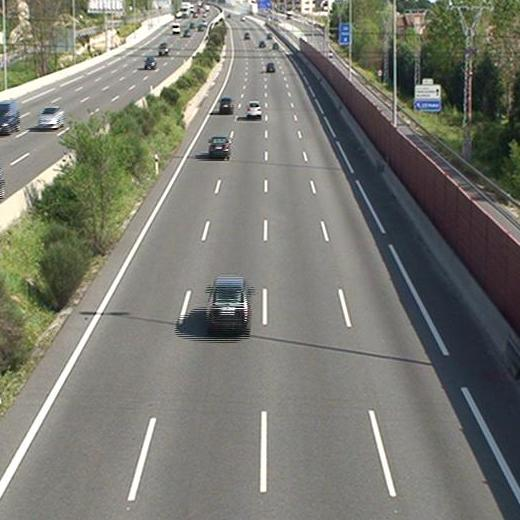car: (206, 279, 249, 335), (208, 137, 229, 157), (219, 97, 234, 114), (247, 101, 260, 118), (266, 61, 276, 73)
